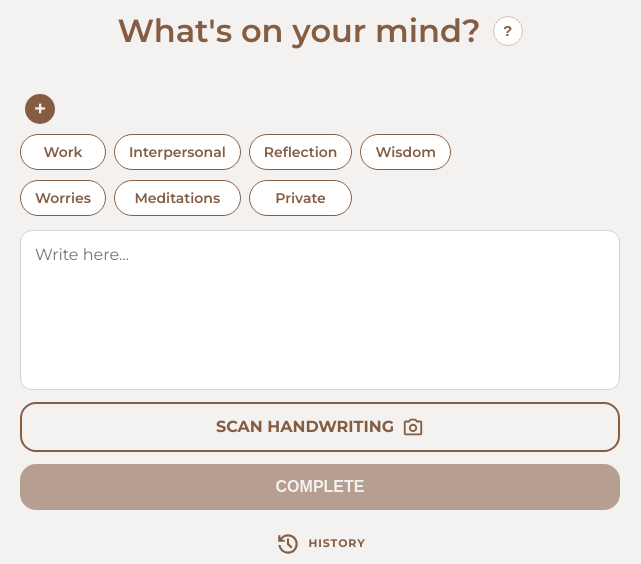
Test: Journal handwriting capture gating › opens a compact chooser above the scan button
The width and height of the screenshot is (641, 564).
Click the button "SCAN HANDWRITING". click: (320, 427)
box: [20,402,620,452]
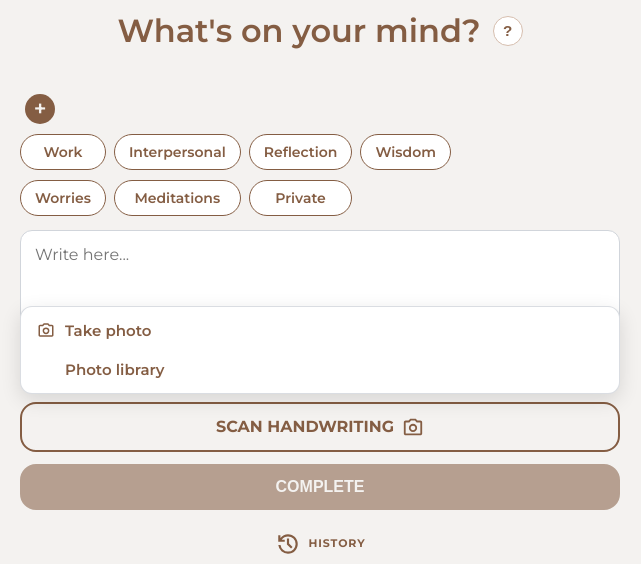
Now the menu is shown, box [20,306,620,394]
Now the menu item with aria-label "Open camera" is shown, box [25,311,615,350]
Now the menu item with aria-label "Choose from photo library" is shown, box [25,350,615,389]
